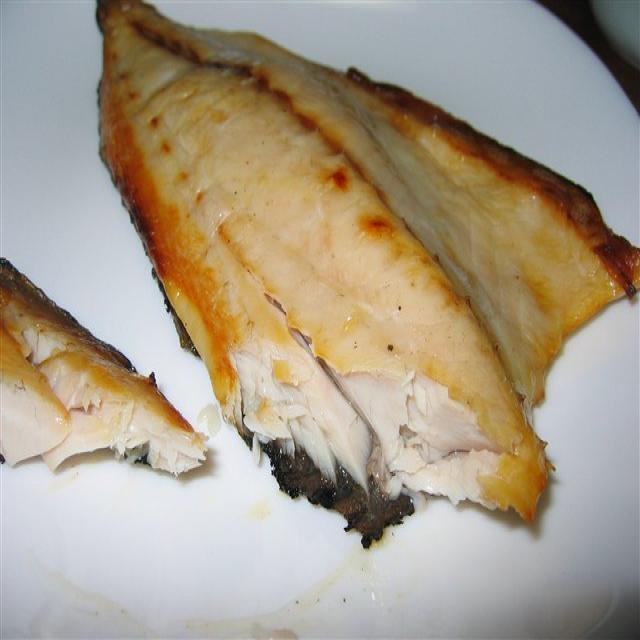熟制海鲜: (72, 0, 640, 539)
